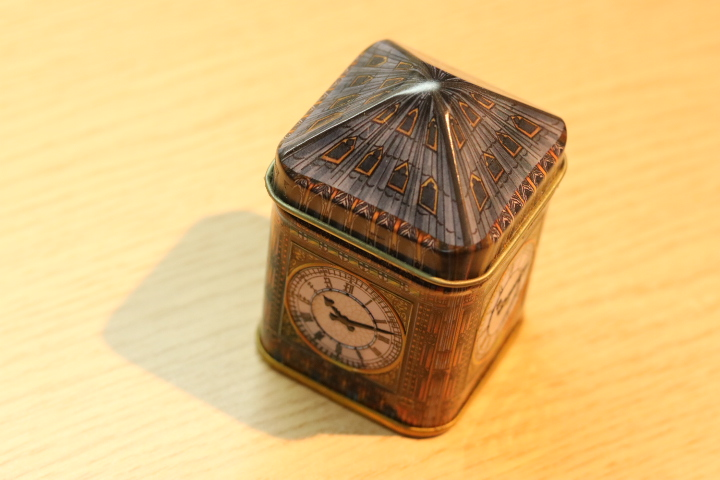Big Ben: (244, 25, 586, 456)
